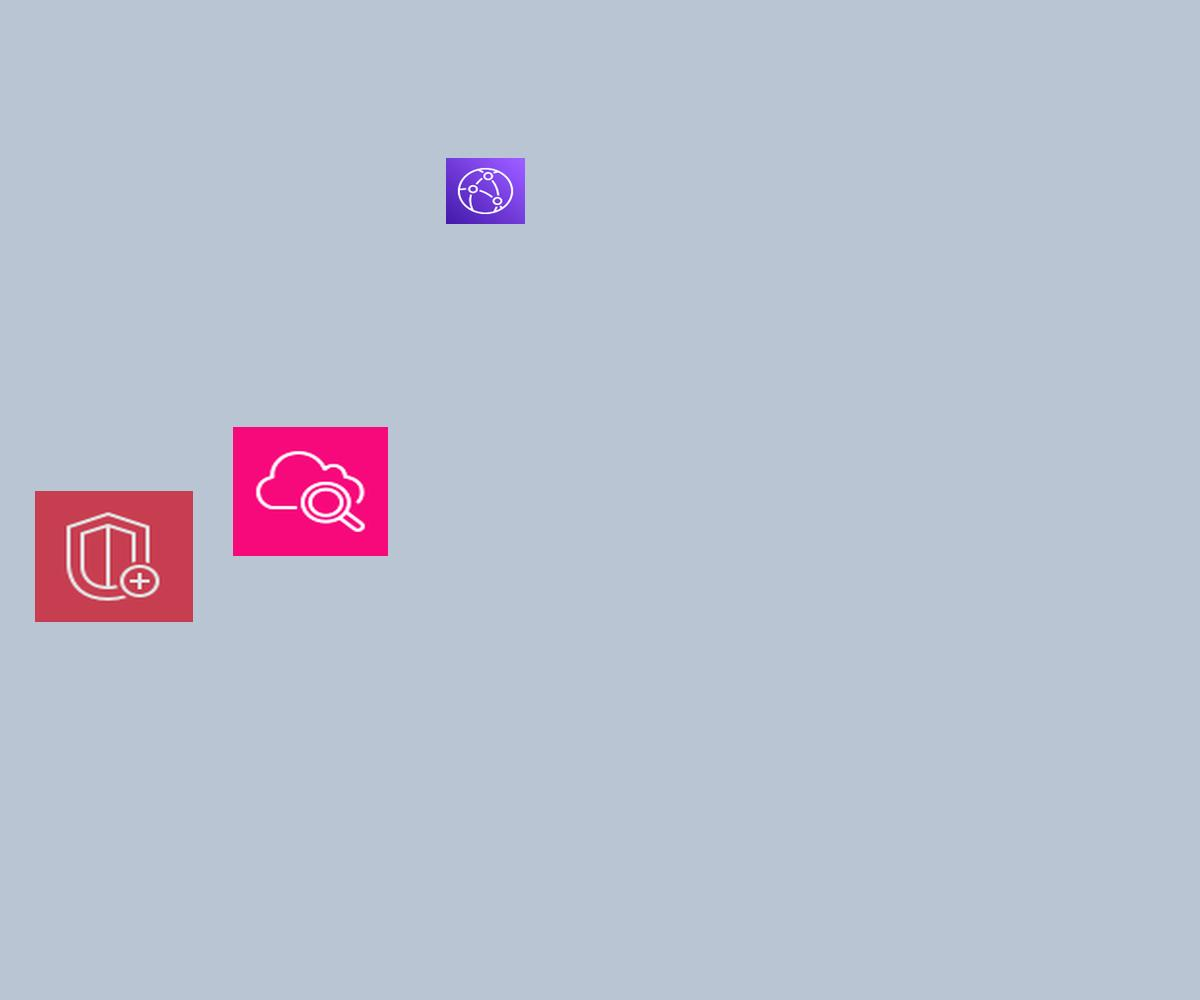AWS-CloudFront: (446, 158, 525, 224)
AWS-CloudWatch: (233, 427, 388, 556)
AWS-Shield: (35, 491, 193, 622)
